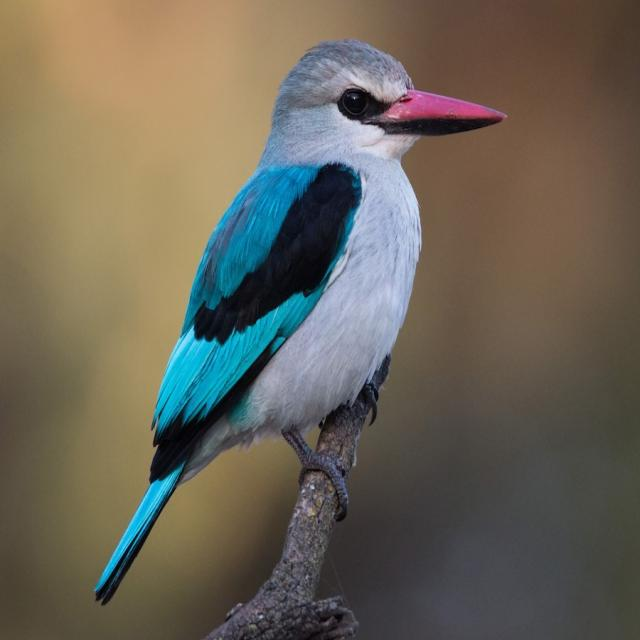kingfisher: (56, 12, 538, 605)
